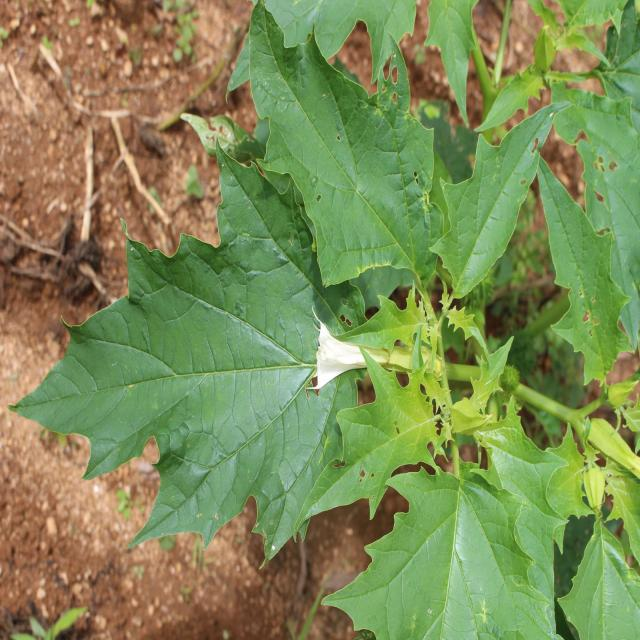Poisonous-Datura_Stramonium: (15, 187, 452, 548), (529, 81, 640, 450)
